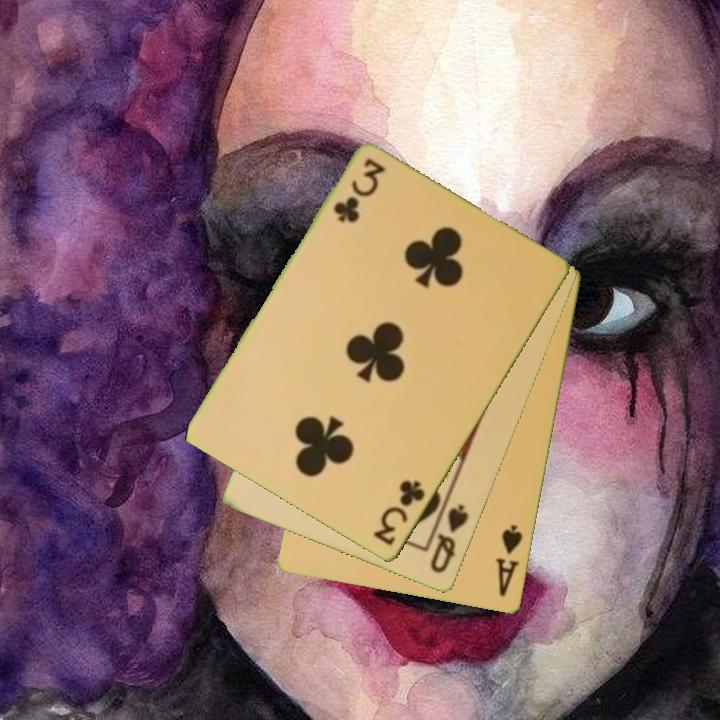3c: (370, 476, 429, 549), (329, 154, 387, 226)
As: (492, 521, 526, 600)
Qs: (427, 501, 472, 577)
